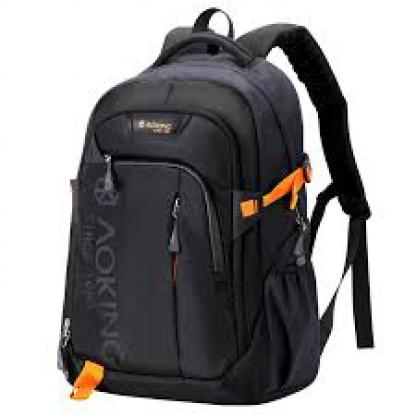morral: (26, 2, 381, 410)
